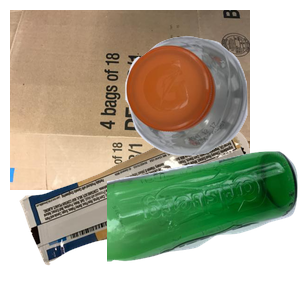cardboard: (10, 10, 250, 190)
glass: (107, 149, 300, 300)
plastic: (123, 33, 300, 181)
trash: (17, 123, 257, 300)
